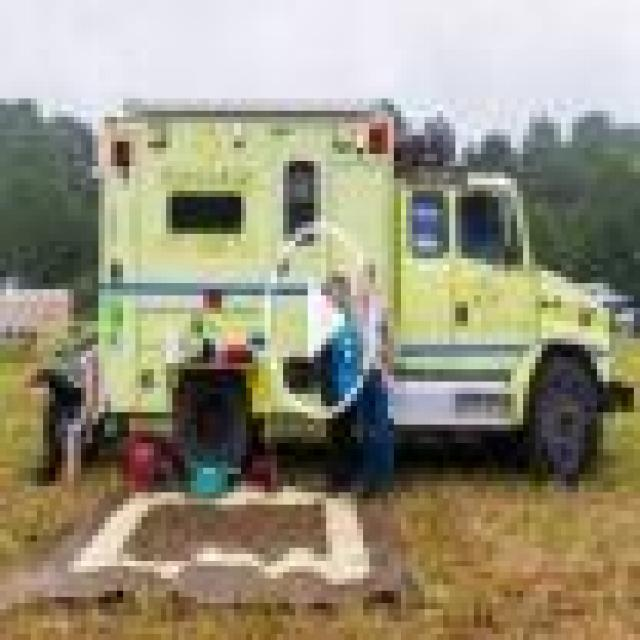emergency-vehicle: (34, 70, 631, 508)
